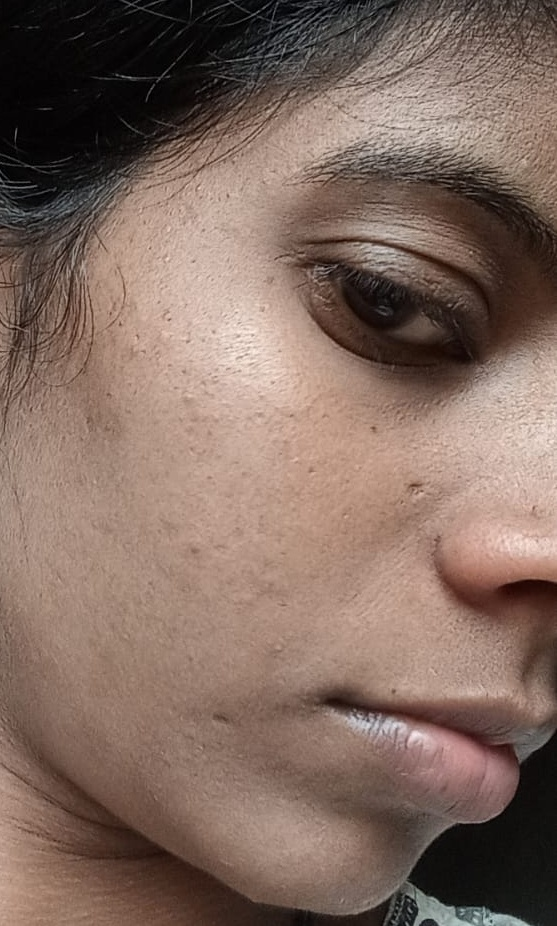closed_comedone: (119, 335, 157, 383), (183, 529, 220, 568), (175, 382, 204, 419)
